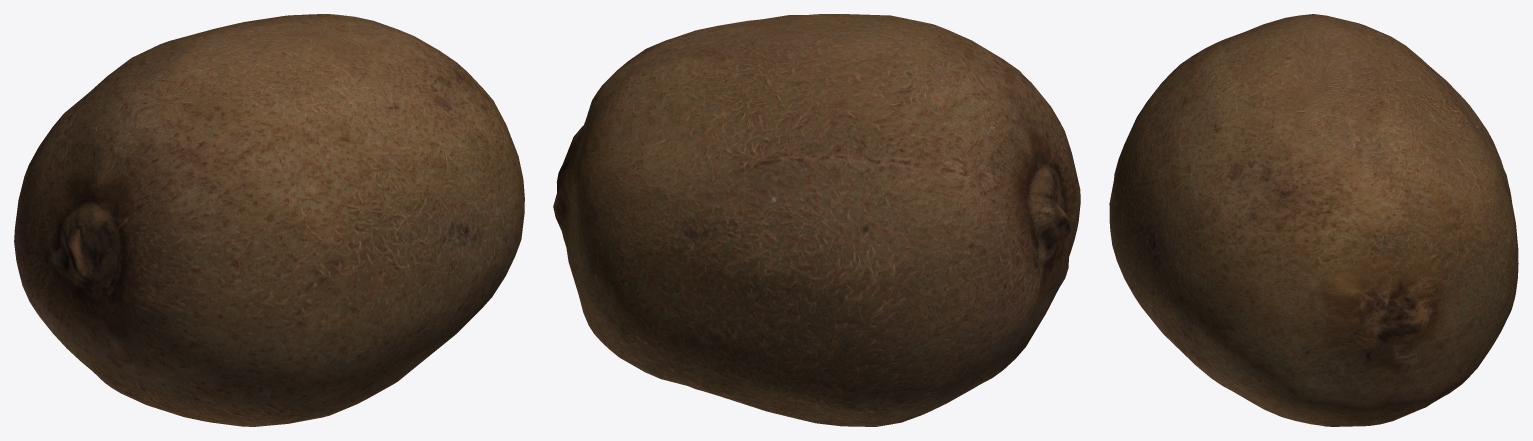
The model's file is Kiwi.glb.
The picture shows the model from 3 angles, left to right: view 1: azimuth 30°, elevation 25°; view 2: azimuth 150°, elevation 25°; view 3: azimuth 270°, elevation 25°; orthographic projection. The views are drawn at different scales.
Parts seen in each view (by area): view 1: node_Kiwi_-207228; view 2: node_Kiwi_-207228; view 3: node_Kiwi_-207228.
Part boxes in pixels (<box>): node_Kiwi_-207228: <box>14,14,524,426</box>; node_Kiwi_-207228: <box>553,14,1080,426</box>; node_Kiwi_-207228: <box>1109,14,1518,426</box>.
Size of the model in its own units: 0.0425 by 0.0331 by 0.0363.
Materials: 1 (1 with a texture image).
